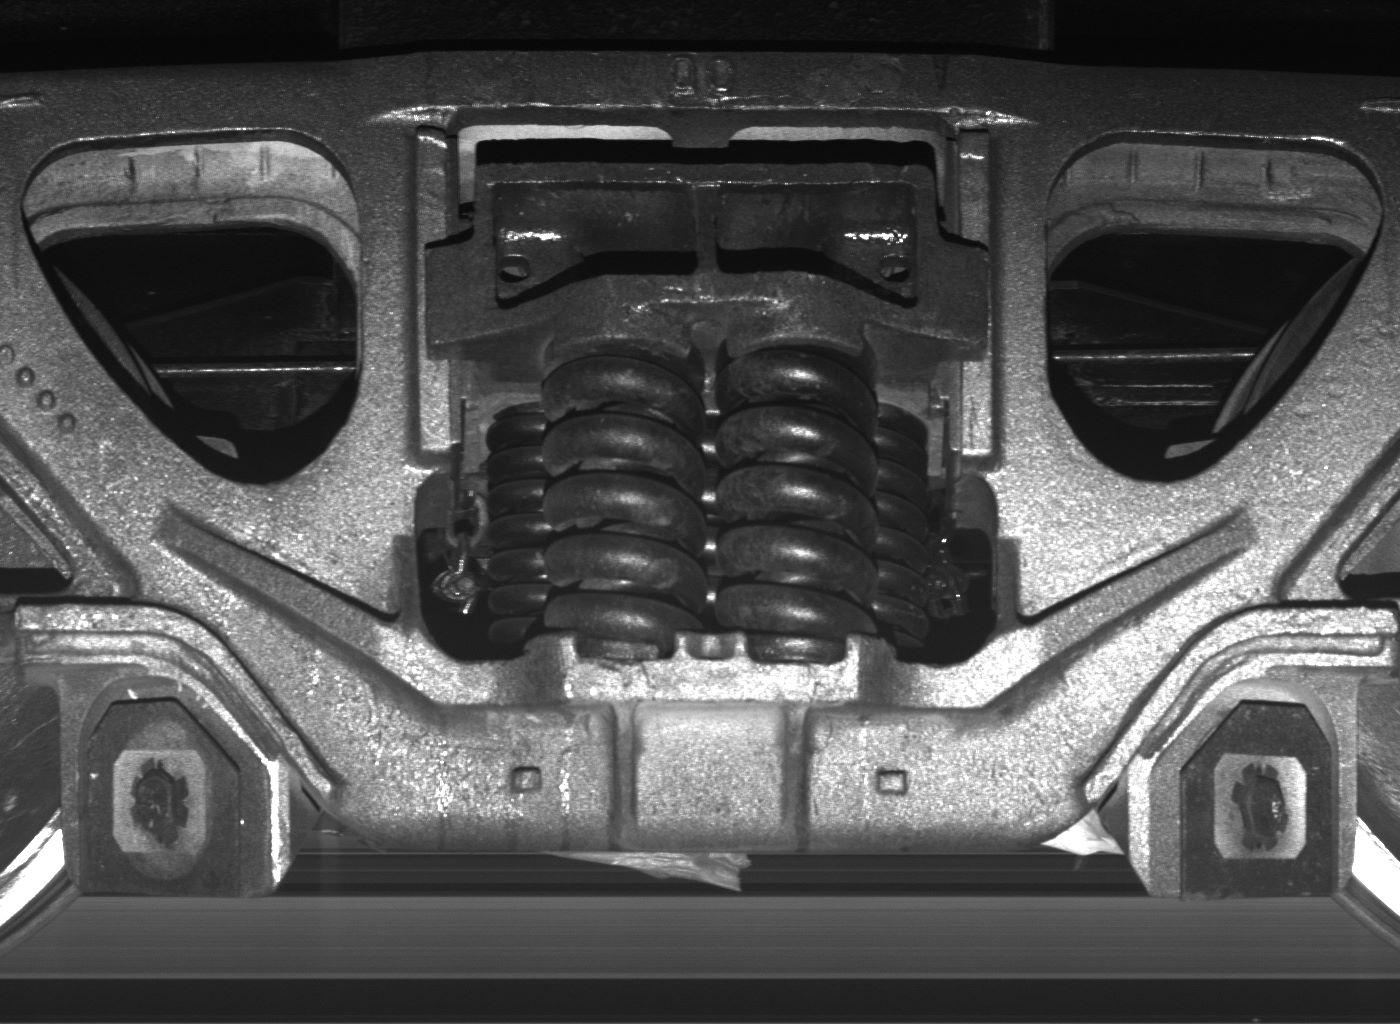normal: (57, 672, 291, 900), (1147, 673, 1357, 896)
